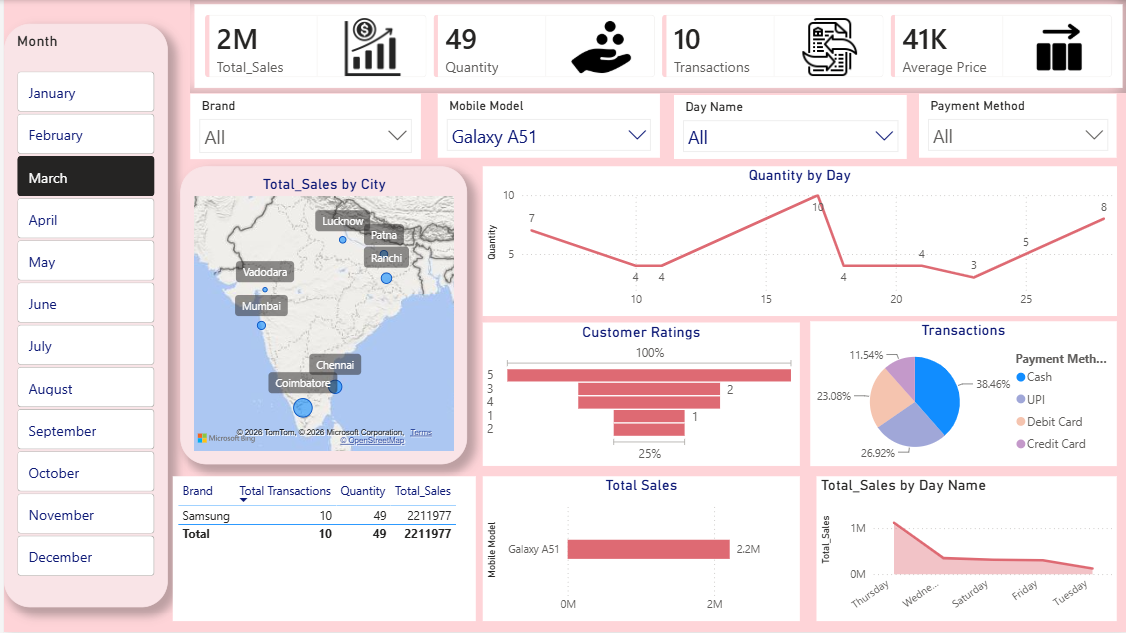

The dashboard page shown, as its layout file describes it:
{"tool":"powerbi","page":{"name":"Page 1","canvas":[1280,720],"ordinal":0},"visuals":[{"type":"advancedSlicerVisual","fields":{"Values":["Sales_Data.date.Variation.Date Hierarchy.Month"]},"box":[0,27.4,186.6,664.2],"z":0},{"type":"cardVisual","fields":{"Data":["Sales_Data.Total_Sales","Sales_Data.Quantity","Sales_Data.Total Transactions","Sales_Data.Average Price"]},"box":[211.3,0,1069,105.7],"z":1000},{"type":"map","fields":{"Category":["Sales_Data.City"],"Size":["Sales_Data.Total_Sales"]},"box":[200.3,189.4,326.6,338.9],"z":2000},{"type":"lineChart","fields":{"Y":["Sales_Data.Quantity"],"Category":["Sales_Data.date.Variation.Date Hierarchy.Month","Sales_Data.date.Variation.Date Hierarchy.Day"]},"box":[544.8,189.4,721.8,170.2],"z":3000},{"type":"funnel","title":" Customer Ratings ","fields":{"Category":["Sales_Data.Customer Ratings"],"Y":["CountNonNull(Sales_Data.Customer Ratings)"]},"box":[544.8,366.4,360.9,163.3],"z":4000},{"type":"clusteredBarChart","title":"Total Sales ","fields":{"Category":["Sales_Data.Mobile Model"],"Y":["Sales_Data.Total_Sales"]},"box":[544.8,542,360.9,164.7],"z":5000},{"type":"pieChart","title":"Transactions","fields":{"Category":["Sales_Data.Payment Method"],"Y":["Sales_Data.Total Transactions"]},"box":[918,365,348.5,164.7],"z":6000},{"type":"tableEx","fields":{"Values":["Sales_Data.Brand","Sales_Data.Total Transactions","Sales_Data.Quantity","Sales_Data.Total_Sales"]},"box":[192.1,542,344.4,164.7],"z":7000},{"type":"slicer","fields":{"Values":["Sales_Data.Brand"]},"box":[211.3,107,262.1,74.1],"z":8000},{"type":"slicer","fields":{"Values":["Sales_Data.Mobile Model"]},"box":[494,107,252.5,72.7],"z":9000},{"type":"slicer","fields":{"Values":["Sales_Data.Day Name"]},"box":[763,108.4,264.8,72.7],"z":10000},{"type":"slicer","fields":{"Values":["Sales_Data.Payment Method"]},"box":[1041.5,107,225,72.7],"z":11000},{"type":"stackedAreaChart","fields":{"Y":["Sales_Data.Total_Sales"],"Category":["Sales_Data.Day Name"]},"box":[924.9,542,341.7,164.7],"z":12000}]}

Visuals, with their boxes in screenshot pixels (x1, y1, x2, y2), scaled from the page's 1280x720 canvas onto the 1126x633 screenshot:
advancedSlicerVisual - Sales_Data.date.Variation.Date Hierarchy.Month: 0,24,164,608
cardVisual - Sales_Data.Total_Sales x Sales_Data.Quantity: 186,0,1125,93
map - Sales_Data.City x Sales_Data.Total_Sales: 176,167,464,464
lineChart - Sales_Data.Quantity x Sales_Data.date.Variation.Date Hierarchy.Month: 479,167,1114,316
" Customer Ratings " funnel: 479,322,797,466
"Total Sales " clusteredBarChart: 479,477,797,621
"Transactions" pieChart: 808,321,1114,466
tableEx - Sales_Data.Brand x Sales_Data.Total Transactions: 169,477,472,621
slicer - Sales_Data.Brand: 186,94,416,159
slicer - Sales_Data.Mobile Model: 435,94,657,158
slicer - Sales_Data.Day Name: 671,95,904,159
slicer - Sales_Data.Payment Method: 916,94,1114,158
stackedAreaChart - Sales_Data.Total_Sales x Sales_Data.Day Name: 814,477,1114,621
